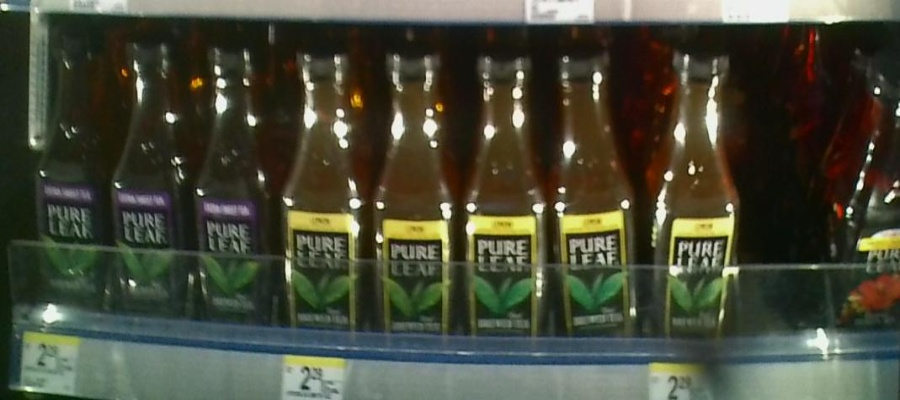bottle: (551, 42, 647, 351), (651, 35, 742, 353), (370, 36, 460, 346), (279, 43, 368, 340), (464, 38, 548, 347), (108, 27, 190, 333), (194, 41, 276, 336), (33, 23, 106, 327), (833, 58, 900, 343)
